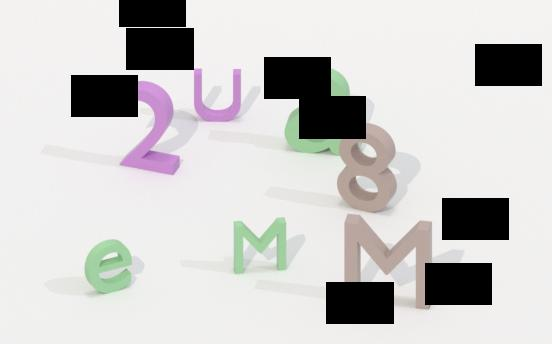2: (116, 79, 183, 178)
8: (336, 119, 400, 214)
M-hoa: (340, 209, 437, 314), (230, 214, 291, 279)
a: (283, 61, 352, 161)
e: (83, 236, 135, 299)
u: (191, 64, 243, 125)
